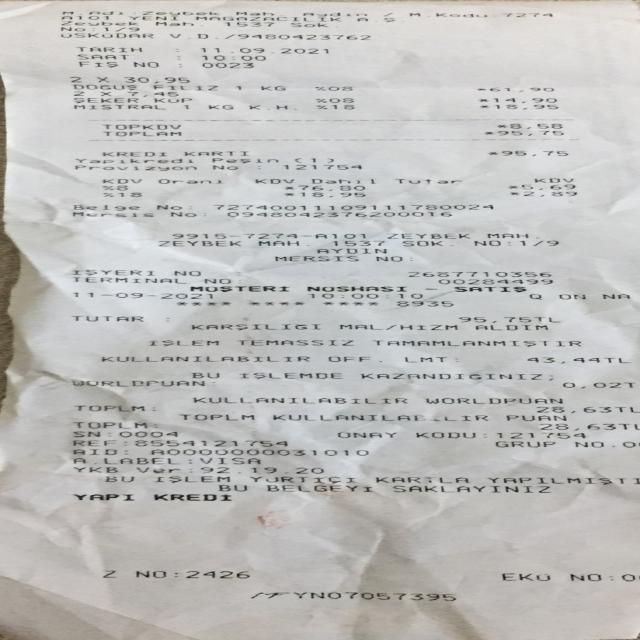text: (253, 590, 455, 602), (212, 203, 492, 211), (150, 447, 367, 457), (271, 412, 486, 422), (225, 210, 450, 219), (100, 354, 308, 363), (360, 371, 539, 381), (192, 396, 405, 404), (487, 475, 638, 486), (373, 339, 579, 347), (168, 32, 369, 40), (391, 484, 548, 493), (424, 396, 560, 405), (172, 230, 294, 240), (200, 465, 322, 475), (135, 439, 286, 447), (248, 474, 354, 485), (407, 270, 548, 278), (196, 46, 332, 54), (235, 338, 351, 347), (189, 323, 319, 331), (72, 292, 214, 299), (266, 484, 370, 493), (374, 475, 466, 485), (436, 277, 550, 285), (71, 379, 201, 386), (72, 276, 184, 284), (195, 16, 338, 22), (73, 164, 193, 171), (525, 356, 629, 364), (72, 457, 176, 465), (386, 230, 468, 240), (74, 157, 190, 164), (499, 430, 587, 439), (152, 492, 228, 502), (235, 371, 342, 378), (153, 474, 227, 484), (70, 210, 152, 219), (59, 31, 150, 39), (188, 285, 286, 292), (307, 285, 405, 292), (308, 293, 420, 299), (70, 268, 152, 276), (157, 239, 238, 247), (180, 412, 252, 421), (146, 338, 216, 347), (281, 163, 359, 171), (71, 492, 132, 502), (534, 405, 610, 413), (540, 422, 614, 430), (336, 429, 395, 439), (274, 255, 356, 262), (475, 323, 546, 331), (494, 572, 550, 582), (72, 104, 164, 110), (102, 123, 180, 130), (461, 315, 529, 323), (412, 430, 472, 439), (103, 130, 180, 137), (558, 381, 634, 388), (296, 184, 362, 192), (72, 203, 138, 211), (72, 404, 138, 412), (202, 54, 266, 62), (123, 76, 187, 84), (198, 457, 260, 465), (184, 570, 246, 578), (314, 230, 363, 240), (314, 247, 384, 254), (454, 285, 524, 292), (71, 315, 141, 322), (72, 421, 142, 428), (117, 430, 176, 438), (494, 440, 553, 448), (574, 440, 633, 448), (398, 323, 456, 331), (506, 413, 564, 421), (210, 157, 276, 164), (298, 191, 364, 198), (76, 46, 141, 53), (100, 150, 165, 157), (394, 177, 459, 184), (142, 10, 217, 16), (59, 20, 134, 26), (157, 177, 220, 184), (309, 177, 372, 184), (134, 465, 178, 475), (486, 230, 527, 240), (201, 61, 252, 69), (330, 239, 381, 247), (395, 300, 452, 307), (500, 150, 566, 156), (71, 448, 115, 457), (71, 465, 115, 474), (72, 97, 137, 103), (403, 355, 446, 364), (151, 84, 214, 90), (70, 438, 112, 447), (488, 86, 550, 92), (72, 84, 134, 90), (492, 97, 554, 103), (182, 150, 244, 156), (522, 190, 575, 197), (494, 104, 555, 110), (76, 53, 126, 60), (496, 130, 562, 135), (328, 355, 369, 363), (508, 123, 562, 129), (256, 239, 296, 247), (520, 184, 572, 190), (401, 239, 440, 247), (339, 323, 378, 331), (126, 91, 175, 97), (78, 60, 114, 68), (520, 239, 556, 247), (290, 157, 337, 163), (430, 12, 486, 17), (500, 12, 556, 17), (248, 104, 294, 110), (55, 11, 124, 15), (61, 14, 106, 20), (104, 474, 131, 484), (253, 177, 291, 184), (103, 177, 139, 184), (354, 16, 396, 22), (569, 573, 600, 581), (224, 21, 272, 26), (152, 20, 186, 27), (153, 97, 190, 103), (190, 371, 217, 379), (71, 430, 98, 438), (218, 484, 245, 492), (136, 570, 163, 578), (201, 277, 231, 284), (170, 210, 193, 219), (102, 26, 136, 32), (311, 12, 361, 16), (473, 239, 498, 247), (290, 21, 322, 27), (156, 203, 180, 211), (234, 11, 272, 16), (129, 16, 175, 20), (210, 164, 236, 171), (617, 422, 639, 430), (374, 255, 399, 262), (260, 84, 284, 91), (533, 316, 561, 322), (173, 270, 200, 276), (133, 61, 156, 68), (532, 178, 572, 182), (618, 405, 638, 413), (600, 293, 626, 299), (58, 26, 83, 32), (208, 104, 232, 110), (329, 104, 352, 110), (407, 12, 433, 17), (559, 293, 580, 299), (618, 573, 632, 582), (117, 192, 139, 197), (327, 86, 351, 90), (327, 98, 351, 102), (101, 570, 113, 578), (481, 430, 490, 439), (69, 75, 79, 83), (302, 230, 310, 240), (95, 76, 106, 83), (314, 104, 326, 110), (527, 293, 539, 299), (384, 323, 393, 331), (424, 285, 434, 292), (284, 184, 292, 192), (144, 404, 152, 412), (71, 90, 81, 96), (496, 123, 506, 129), (115, 185, 125, 191), (505, 184, 515, 190), (508, 190, 516, 197), (185, 457, 192, 465), (172, 55, 183, 60), (100, 90, 109, 96), (478, 97, 487, 103), (478, 104, 487, 110), (487, 150, 496, 156), (102, 185, 111, 191), (284, 192, 292, 198), (149, 421, 155, 429), (124, 438, 130, 446), (483, 130, 492, 135), (256, 163, 262, 170), (313, 86, 323, 90), (314, 98, 324, 102), (103, 192, 111, 197), (475, 87, 484, 91), (234, 84, 239, 91), (207, 379, 212, 386), (172, 48, 180, 52), (334, 21, 339, 27), (377, 355, 380, 364), (547, 372, 550, 381), (182, 104, 186, 110), (106, 430, 109, 438), (200, 21, 204, 26), (534, 230, 536, 240), (306, 239, 308, 247), (506, 239, 508, 247), (203, 210, 204, 219), (124, 448, 125, 457), (188, 203, 189, 211), (188, 466, 189, 474), (178, 61, 179, 68), (409, 255, 410, 262), (91, 26, 92, 32)
